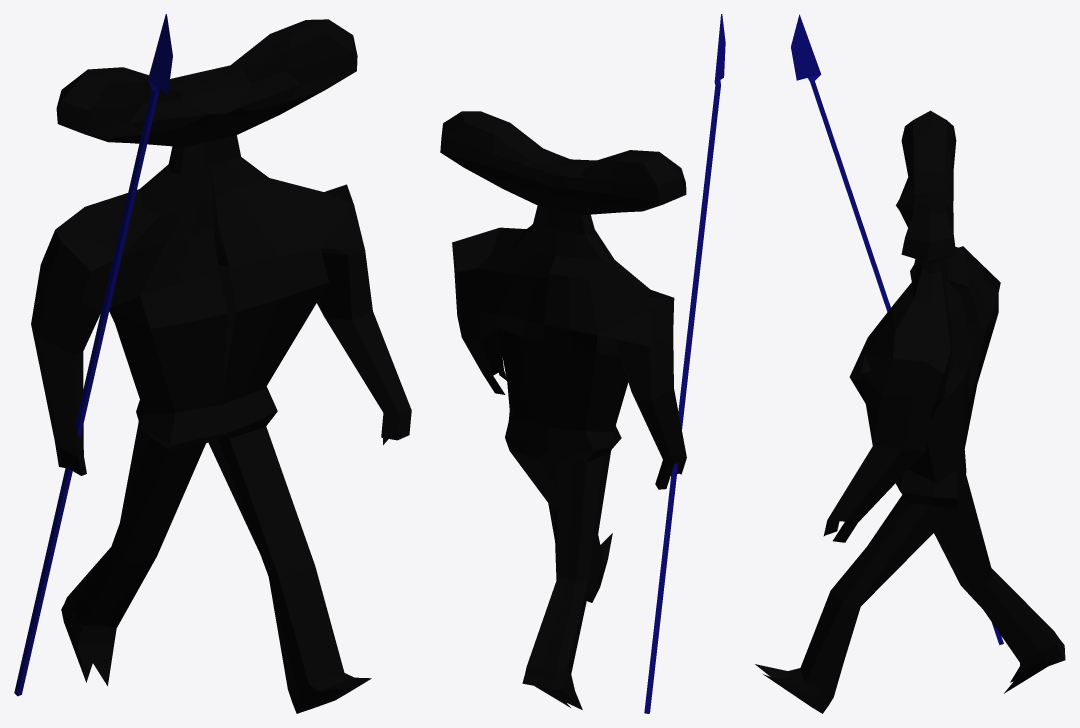
Rendered from Spearman1w.obj.
The picture shows the model from 3 angles, left to right: view 1: azimuth 30°, elevation 25°; view 2: azimuth 150°, elevation 25°; view 3: azimuth 270°, elevation 25°; orthographic projection. The views are drawn at different scales.
Parts seen in each view (by area): view 1: Cube; view 2: Cube; view 3: Cube.
Boxes of the visible parts, x1,y1,x2,y2 form: Cube: [14, 14, 411, 713]; Cube: [440, 14, 725, 713]; Cube: [755, 14, 1065, 713].
Size of the model in its own units: 0.7214 by 1.77 by 0.7615.
